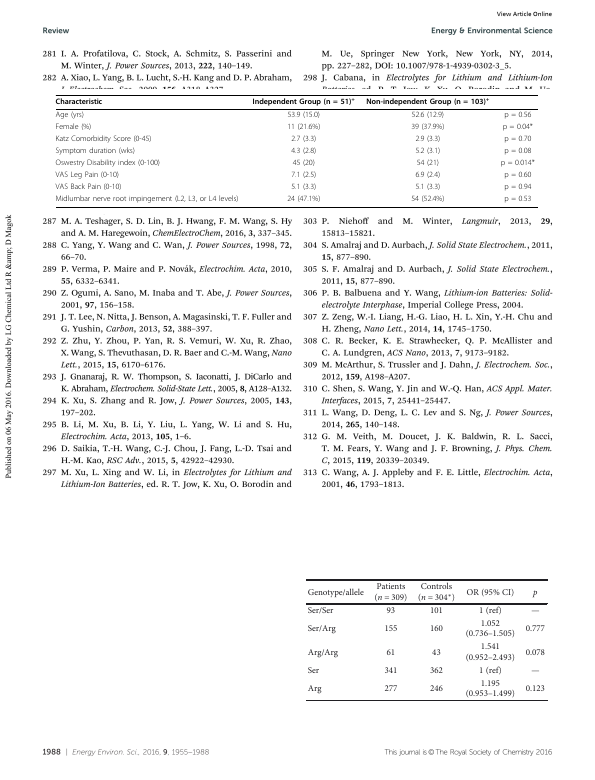borderless: (54, 94, 538, 207), (306, 578, 548, 701)
cell: (55, 195, 239, 204), (365, 96, 490, 107), (252, 96, 356, 107), (464, 619, 515, 640), (464, 642, 515, 663), (464, 679, 515, 700), (55, 159, 161, 169), (55, 135, 152, 145), (417, 582, 456, 603), (55, 147, 136, 157), (373, 582, 408, 603), (306, 587, 364, 598), (55, 183, 122, 192), (55, 171, 120, 180), (465, 587, 515, 598), (55, 98, 103, 107), (55, 123, 92, 133), (306, 647, 339, 658), (500, 159, 536, 169), (286, 111, 321, 121), (286, 123, 321, 133), (410, 123, 445, 133), (411, 111, 445, 121), (502, 123, 534, 133), (286, 195, 321, 204), (410, 195, 445, 204), (55, 111, 85, 121), (306, 624, 336, 634), (503, 111, 532, 121), (503, 135, 532, 145), (503, 147, 532, 157), (306, 606, 334, 616), (290, 135, 317, 145), (414, 135, 441, 145), (290, 147, 317, 157), (414, 147, 441, 157), (503, 171, 532, 180), (503, 183, 532, 192), (503, 195, 532, 204), (290, 171, 317, 180), (414, 171, 441, 180), (290, 183, 317, 192), (414, 183, 441, 192), (292, 159, 316, 169), (416, 159, 440, 169), (478, 606, 502, 616), (478, 666, 502, 676), (524, 647, 545, 658), (524, 684, 545, 695), (524, 624, 545, 634), (306, 684, 322, 695), (383, 684, 398, 695), (429, 684, 444, 695), (429, 606, 444, 616), (383, 624, 398, 634), (429, 624, 444, 634), (383, 666, 398, 676), (429, 666, 444, 676), (306, 666, 320, 676), (385, 647, 396, 658), (385, 606, 396, 616), (431, 647, 441, 658), (532, 589, 538, 598), (530, 610, 540, 614), (530, 670, 540, 674)
